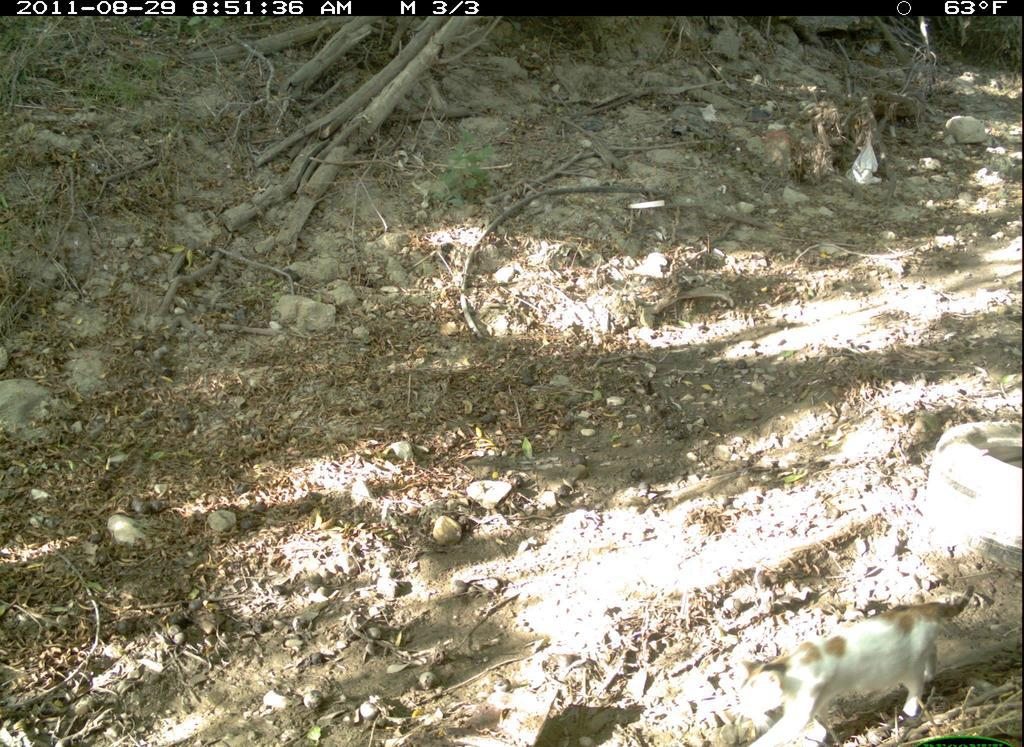cat: (728, 577, 986, 747)
